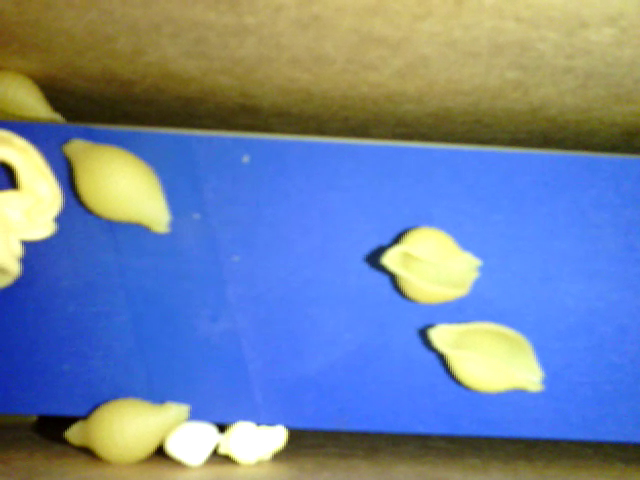shell: (64, 137, 171, 234), (426, 319, 545, 395), (375, 224, 484, 305), (65, 395, 193, 463), (2, 68, 65, 125)
tortellini: (1, 132, 71, 242)
